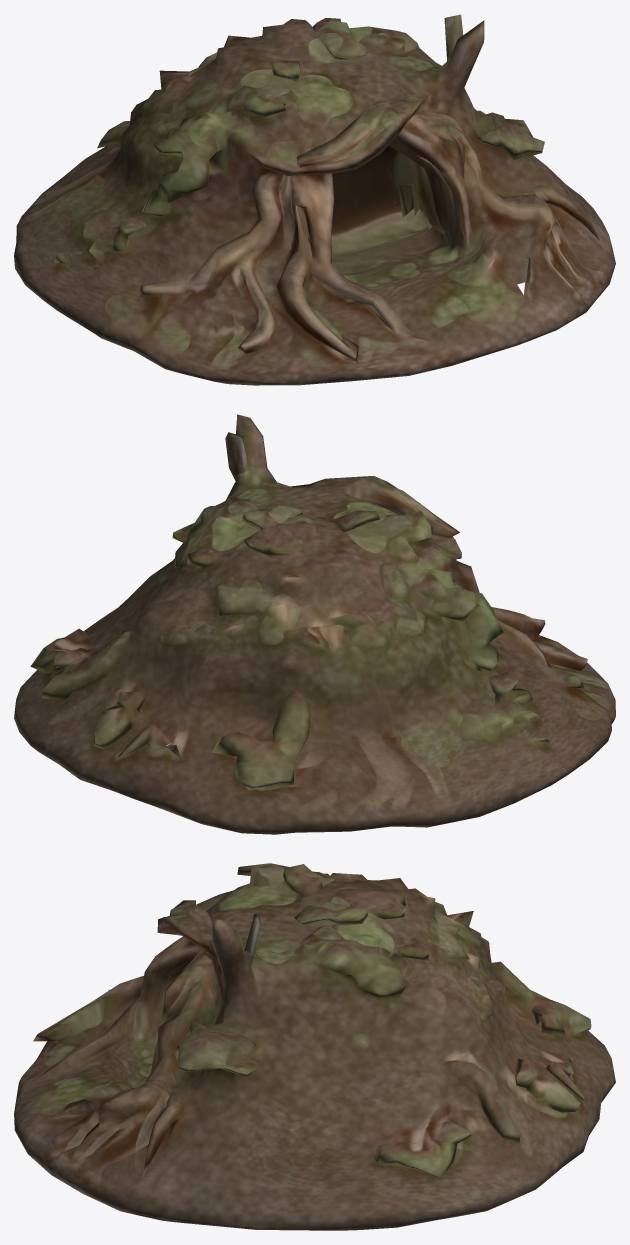
The model's file is burrow.glb.
The picture shows the model from 3 angles, top to bottom: view 1: azimuth 30°, elevation 25°; view 2: azimuth 150°, elevation 25°; view 3: azimuth 270°, elevation 25°; orthographic projection. The views are drawn at different scales.
Parts seen in each view (by area): view 1: tripo_node_d9cb8080-cf5d-4c66-a9e9-2ff051e0eff5; view 2: tripo_node_d9cb8080-cf5d-4c66-a9e9-2ff051e0eff5; view 3: tripo_node_d9cb8080-cf5d-4c66-a9e9-2ff051e0eff5.
Part boxes in pixels (x1,y1,x2,y2): tripo_node_d9cb8080-cf5d-4c66-a9e9-2ff051e0eff5: [14, 14, 615, 385]; tripo_node_d9cb8080-cf5d-4c66-a9e9-2ff051e0eff5: [14, 414, 615, 834]; tripo_node_d9cb8080-cf5d-4c66-a9e9-2ff051e0eff5: [14, 863, 615, 1230].
Bounding box in the file's own units: 0.9997 × 0.4621 × 0.9735.
Materials: 1 (1 with a texture image).
